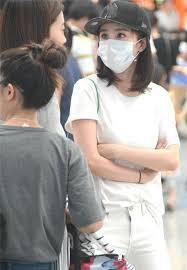OK: (99, 30, 139, 70)
